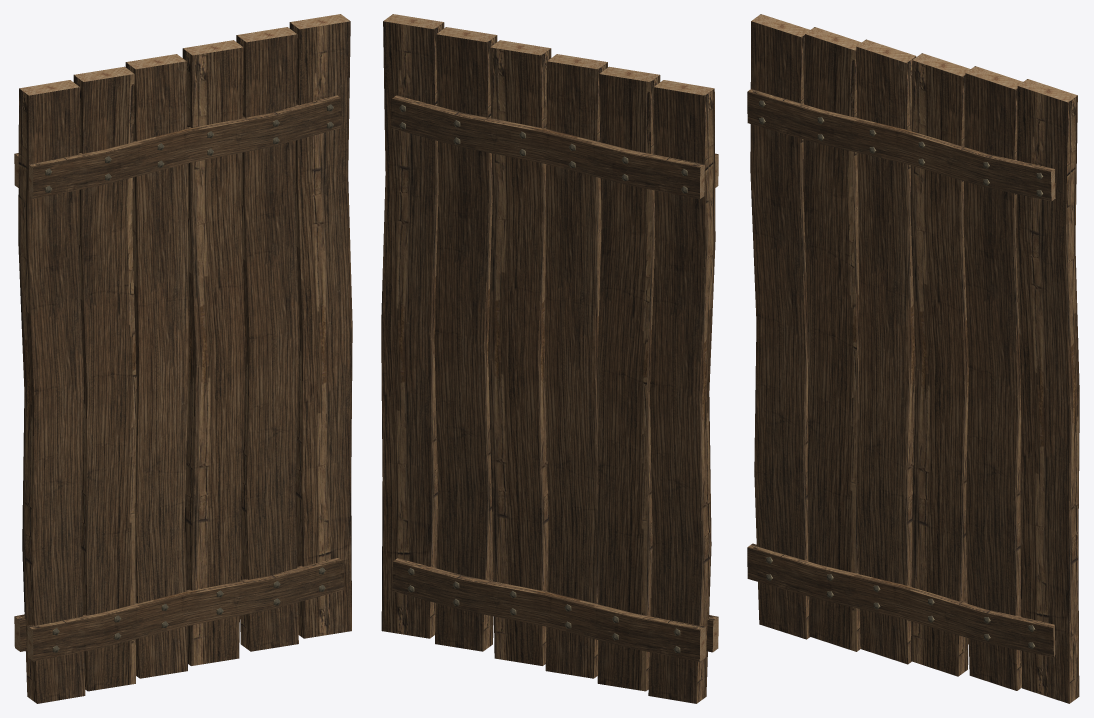
The model's file is WoodenDoor.obj.
3 renders of one model, left to right at view 1: azimuth 30°, elevation 25°; view 2: azimuth 150°, elevation 25°; view 3: azimuth 330°, elevation 25°, orthographic.
Visible parts, largest first — view 1: WoodenDoor; view 2: WoodenDoor; view 3: WoodenDoor.
Boxes of the visible parts, x1,y1,x2,y2 form: WoodenDoor: (14,14,352,703); WoodenDoor: (381,14,718,703); WoodenDoor: (747,14,1079,703).
Size of the model in its own units: 0.9121 by 1.65 by 0.107.
